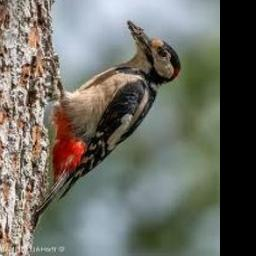Woodpecker: (31, 20, 181, 230)
